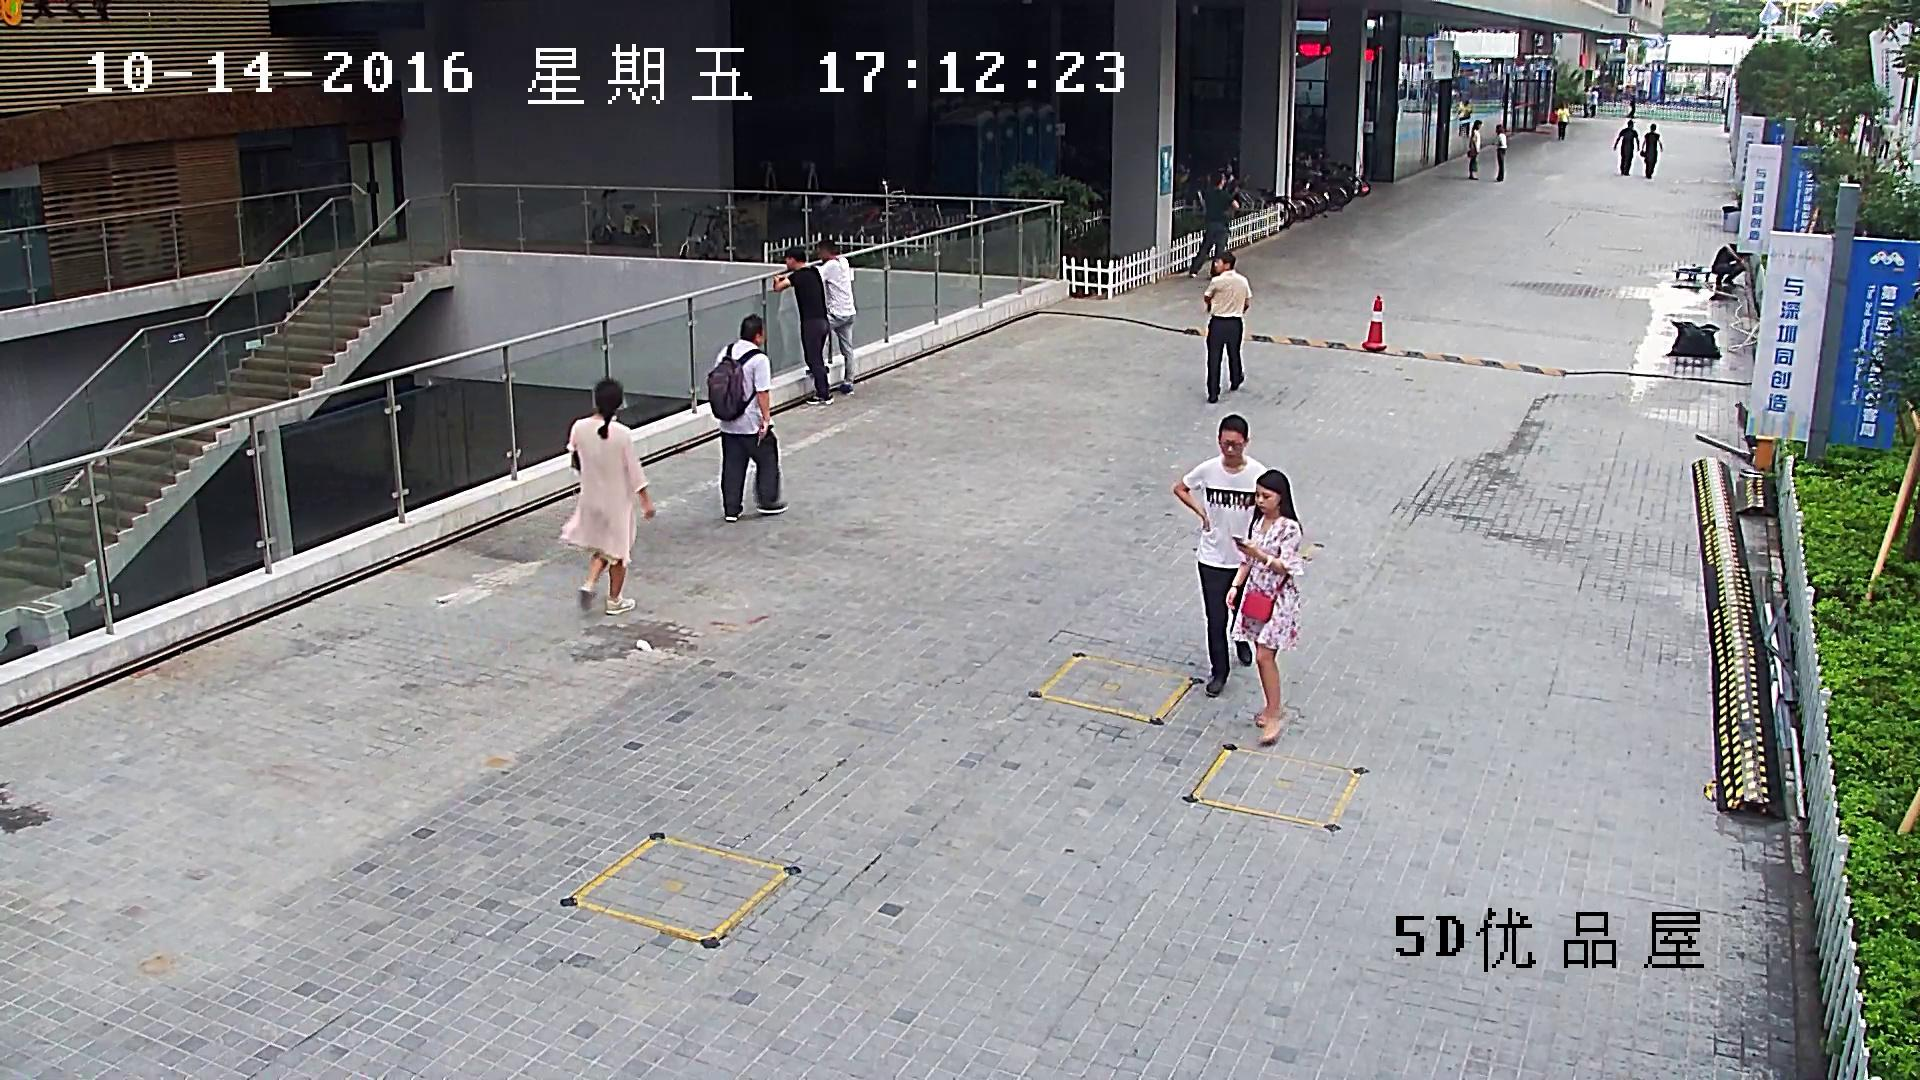person: (1173, 413, 1268, 697), (560, 378, 655, 614), (1226, 468, 1305, 745), (707, 313, 787, 520), (773, 247, 833, 405), (1204, 253, 1252, 402), (817, 241, 856, 394), (1189, 174, 1238, 278), (1713, 244, 1751, 286), (1613, 119, 1640, 176), (1640, 123, 1663, 179), (1467, 119, 1482, 180), (1495, 123, 1506, 181), (1457, 96, 1471, 136), (1555, 101, 1569, 139), (1878, 124, 1891, 158), (1591, 85, 1598, 117), (1626, 93, 1634, 118)
